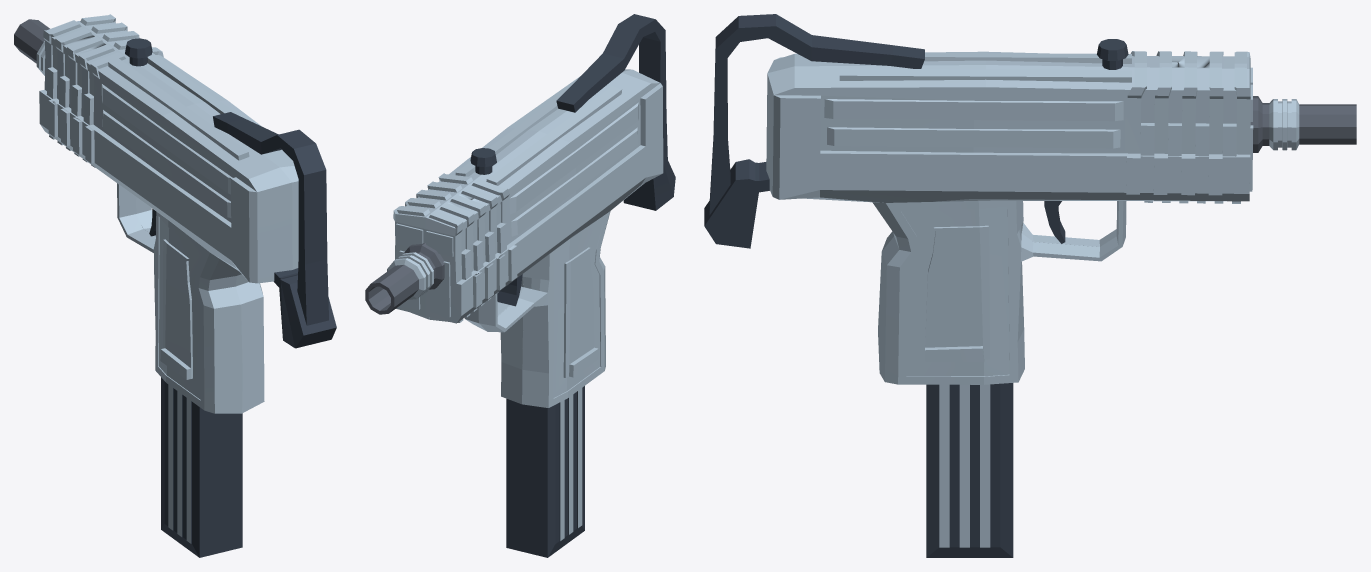
File: Uzi_1.fbx
3 renders of one model, left to right at view 1: azimuth 30°, elevation 25°; view 2: azimuth 150°, elevation 25°; view 3: azimuth 270°, elevation 25°, orthographic. The views are drawn at different scales.
Parts seen in each view (by area): view 1: Uzi_1; view 2: Uzi_1; view 3: Uzi_1.
Boxes of the visible parts, x1,y1,x2,y2 form: Uzi_1: (14, 14, 336, 557); Uzi_1: (365, 14, 675, 557); Uzi_1: (704, 14, 1356, 557).
Bounding box in the file's own units: 84.02 × 466 × 523.
